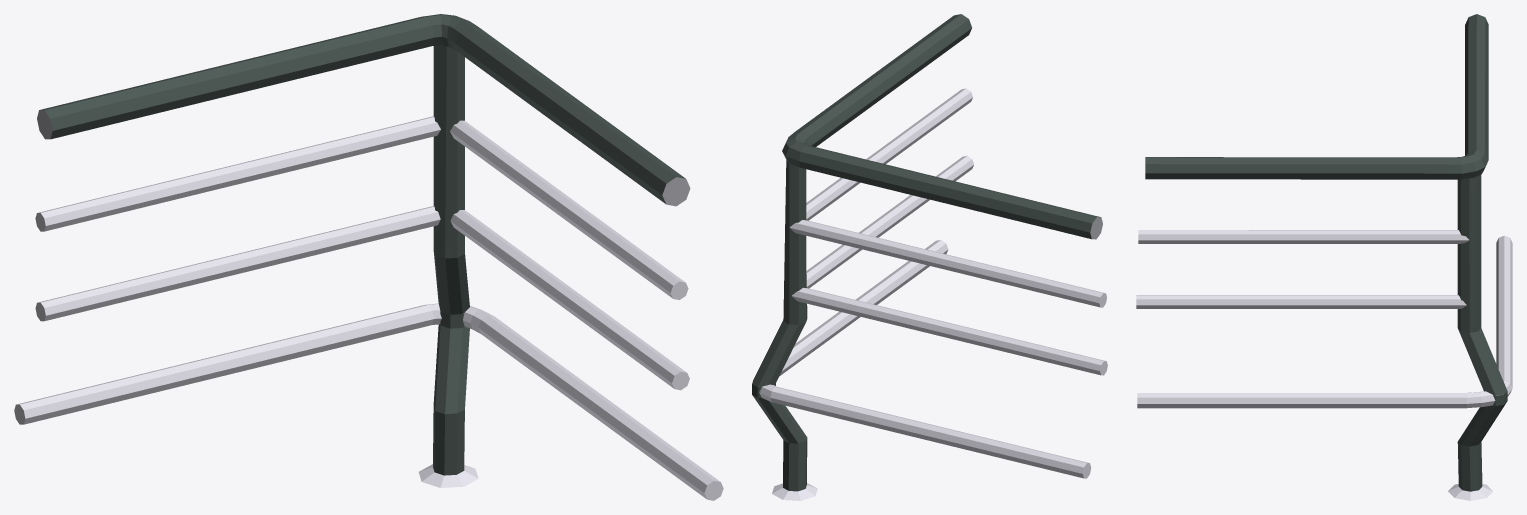
Rendered from Corner.fbx.
3 renders of one model, left to right at view 1: azimuth 30°, elevation 25°; view 2: azimuth 150°, elevation 25°; view 3: azimuth 270°, elevation 25°, orthographic. The views are drawn at different scales.
Parts seen in each view (by area): view 1: Fences Corner; view 2: Fences Corner; view 3: Fences Corner.
Part boxes in pixels (bbox=[...]): Fences Corner: bbox=[14, 14, 723, 500]; Fences Corner: bbox=[752, 14, 1107, 500]; Fences Corner: bbox=[1136, 14, 1512, 500].
Bounding box in the file's own units: 183 × 178 × 181.
